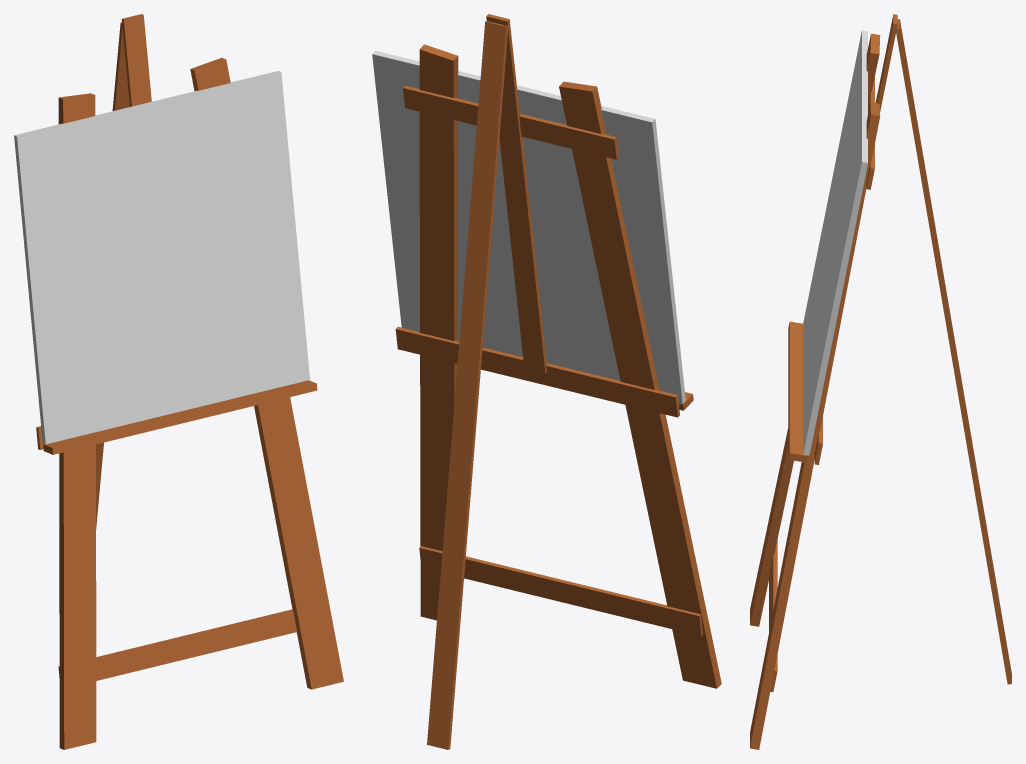
The model's file is TopeiraCanvas.fbx.
3 renders of one model, left to right at view 1: azimuth 30°, elevation 25°; view 2: azimuth 150°, elevation 25°; view 3: azimuth 270°, elevation 25°, orthographic. The views are drawn at different scales.
Visible parts, largest first — view 1: Canvas, Pallet; view 2: Pallet, Canvas; view 3: Pallet, Canvas.
Boxes of the visible parts, x1,y1,x2,y2 form: Canvas: (14, 71, 309, 444); Pallet: (36, 14, 343, 749); Pallet: (395, 14, 721, 749); Canvas: (372, 50, 685, 403); Pallet: (750, 14, 1011, 749); Canvas: (803, 30, 867, 455).
Bounding box in the file's own units: 80.39 × 178 × 63.92.
